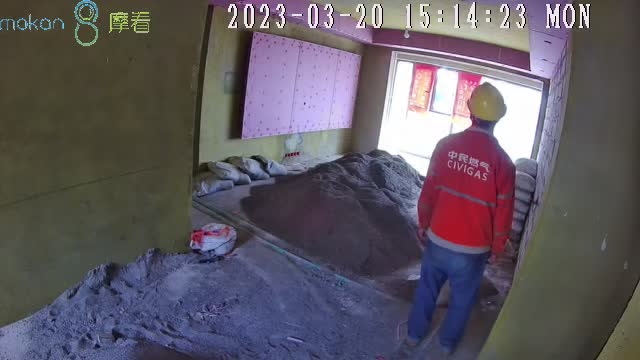people: (402, 81, 515, 354)
window: (388, 57, 541, 174)
